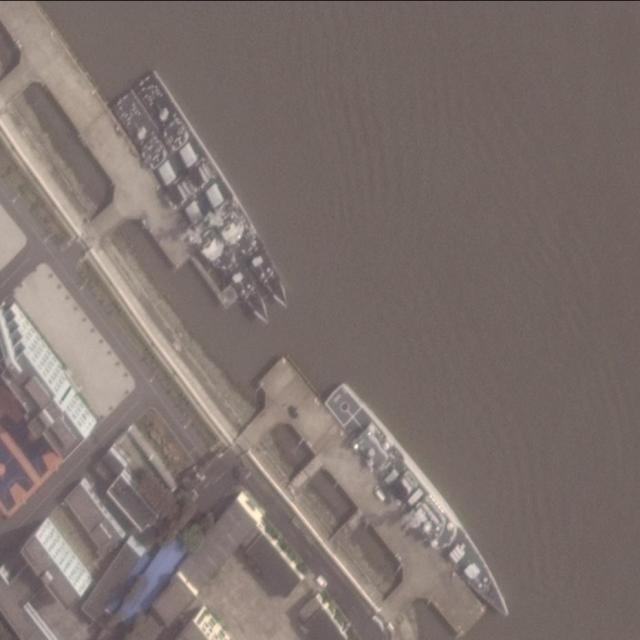Auxiliary Ships: (323, 381, 524, 622)
Frigate: (127, 70, 304, 310), (107, 93, 279, 329)
